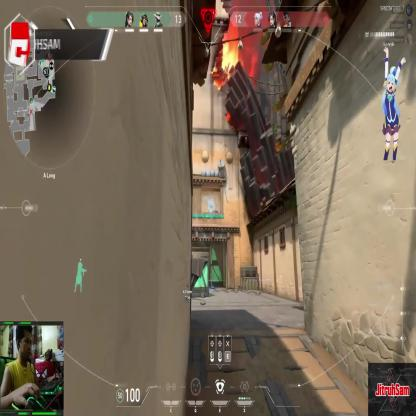enemy: (209, 206, 214, 232)
enemy_head: (209, 207, 213, 212)
